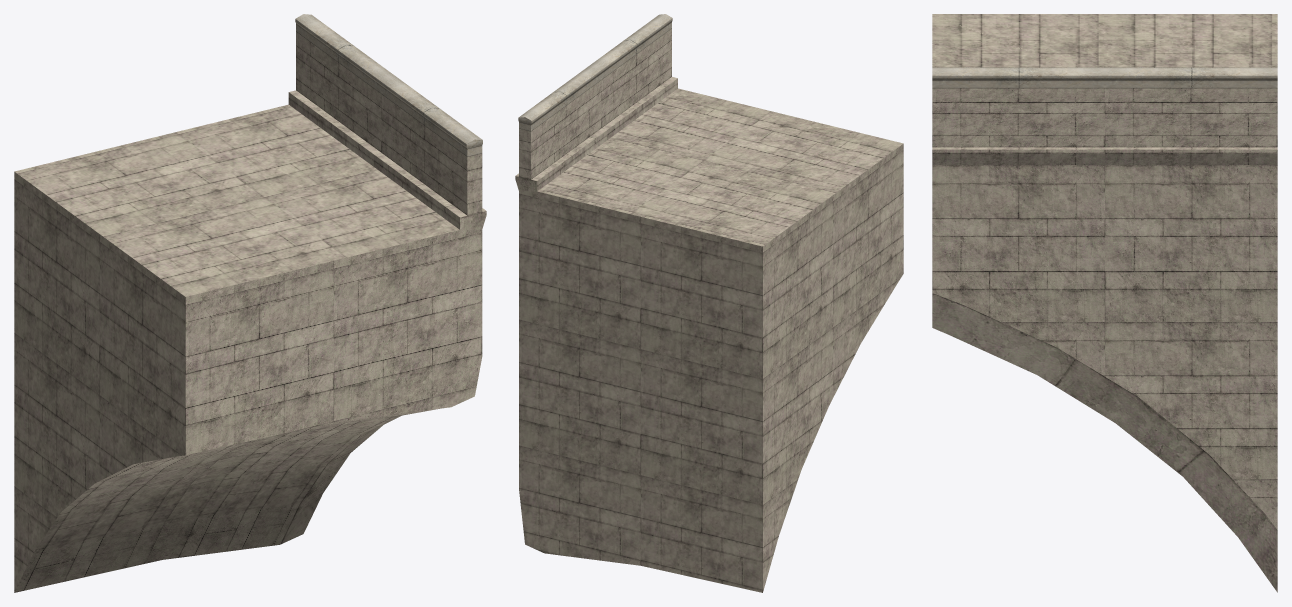
The model's file is AbutmentMarbleRight.dae.
3 renders of one model, left to right at view 1: azimuth 30°, elevation 25°; view 2: azimuth 150°, elevation 25°; view 3: azimuth 270°, elevation 25°, orthographic. The views are drawn at different scales.
Parts seen in each view (by area): view 1: AbutmentMarbleRight; view 2: AbutmentMarbleRight; view 3: AbutmentMarbleRight.
Boxes of the visible parts, x1,y1,x2,y2 form: AbutmentMarbleRight: (14, 14, 486, 592); AbutmentMarbleRight: (515, 14, 903, 592); AbutmentMarbleRight: (932, 14, 1277, 592).
Bounding box in the file's own units: 4.06 × 6.76 × 4.
Materials: 2 (2 with a texture image).
